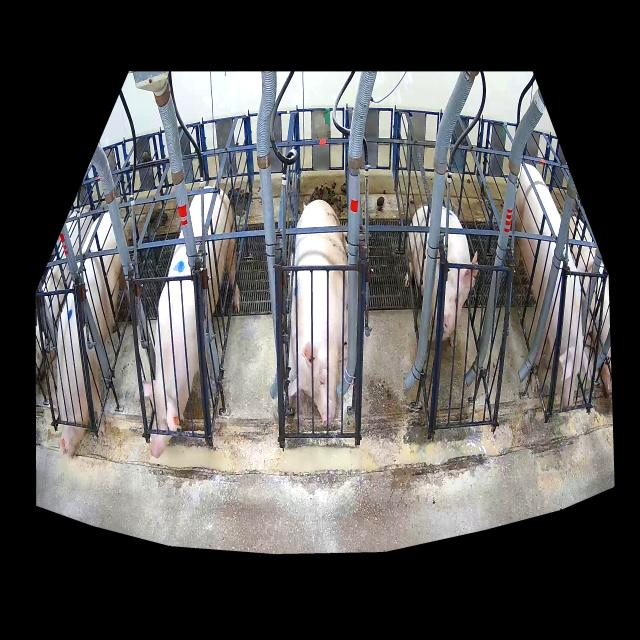pig: (135, 186, 240, 458), (51, 211, 130, 453), (513, 163, 590, 407), (288, 199, 348, 427), (405, 205, 478, 347)
